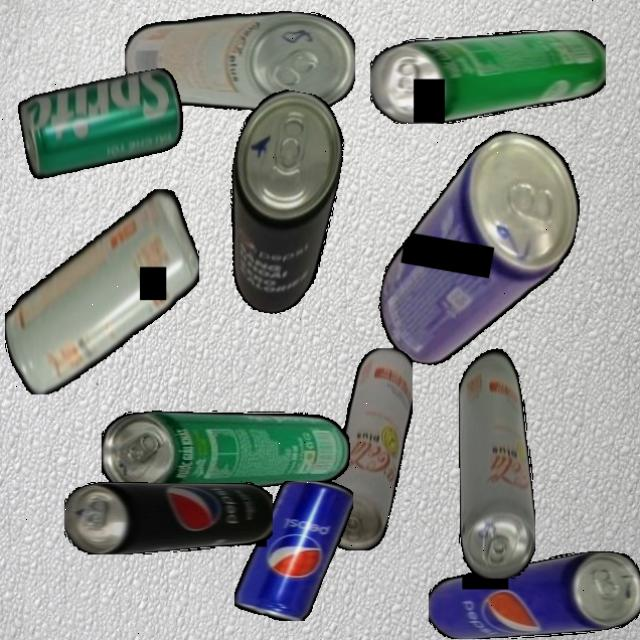debris: (370, 115, 591, 385), (4, 188, 199, 395), (210, 84, 354, 321), (124, 11, 355, 113), (370, 29, 606, 124), (102, 410, 350, 494), (16, 67, 189, 180), (319, 347, 413, 551), (427, 551, 640, 638), (458, 344, 535, 579), (234, 481, 353, 621), (64, 481, 273, 554)
